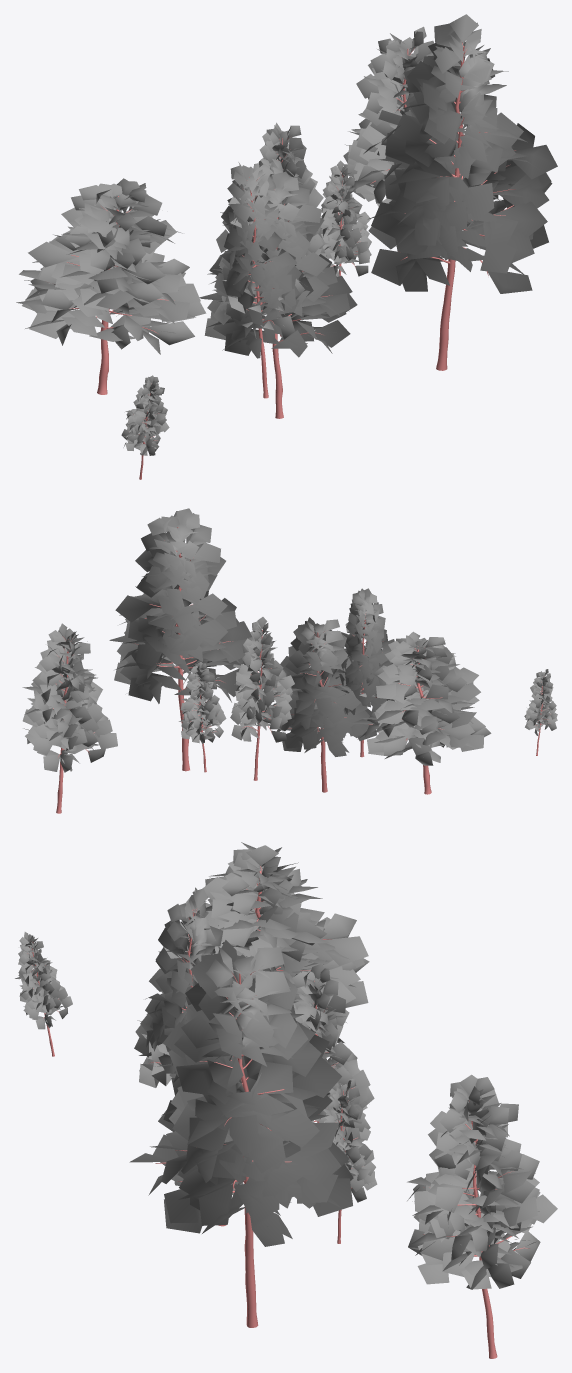
File: Woods_Dawn_Trees_14.gltf
The picture shows the model from 3 angles, top to bottom: view 1: azimuth 30°, elevation 25°; view 2: azimuth 150°, elevation 25°; view 3: azimuth 270°, elevation 25°; orthographic projection. The views are drawn at different scales.
Parts seen in each view (by area): view 1: Woods_Dawn_Trees_14; view 2: Woods_Dawn_Trees_14; view 3: Woods_Dawn_Trees_14.
Part boxes in pixels (x1,y1,x2,y2): Woods_Dawn_Trees_14: (16, 14, 557, 479); Woods_Dawn_Trees_14: (22, 508, 557, 813); Woods_Dawn_Trees_14: (15, 842, 557, 1358).
Size of the model in its own units: 199 by 122 by 155.
